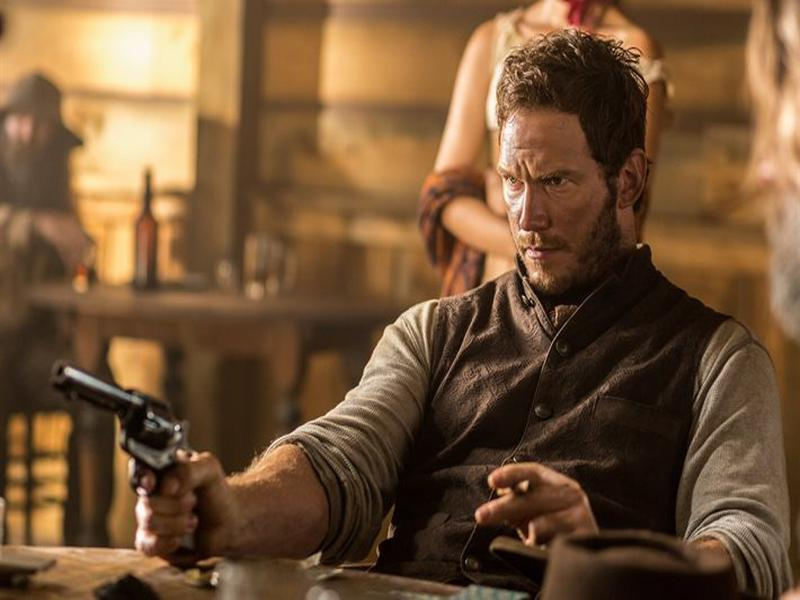Revolver: (51, 354, 203, 555)
